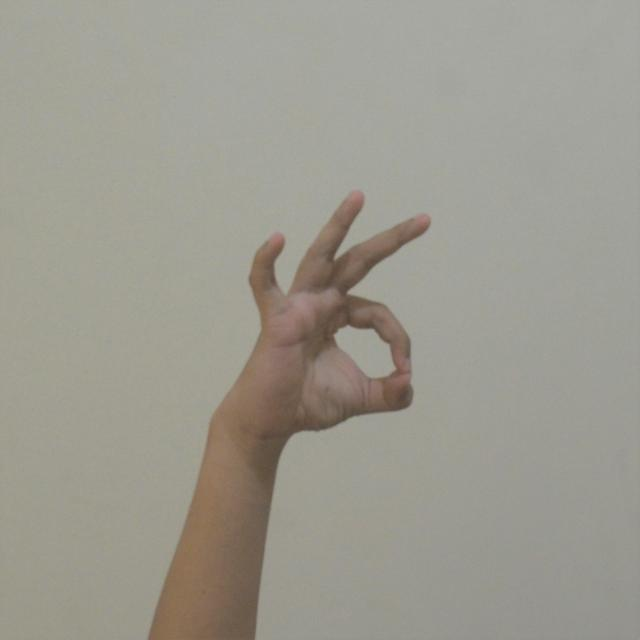O: (197, 165, 445, 461)
